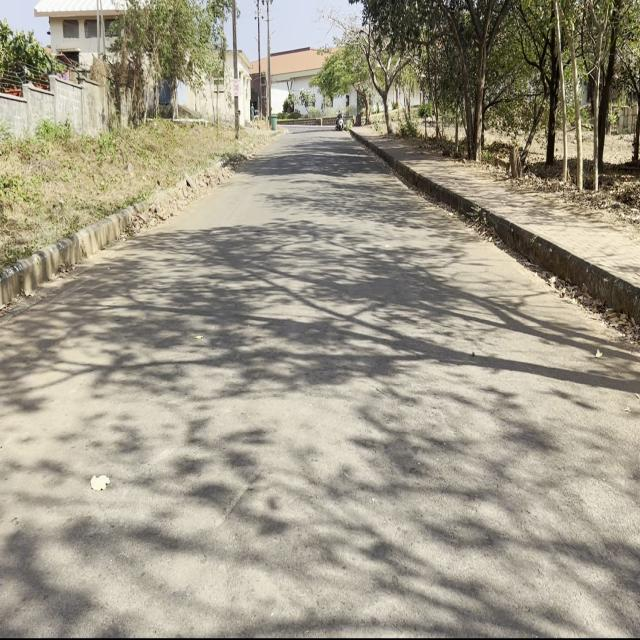Road: (4, 126, 635, 634)
